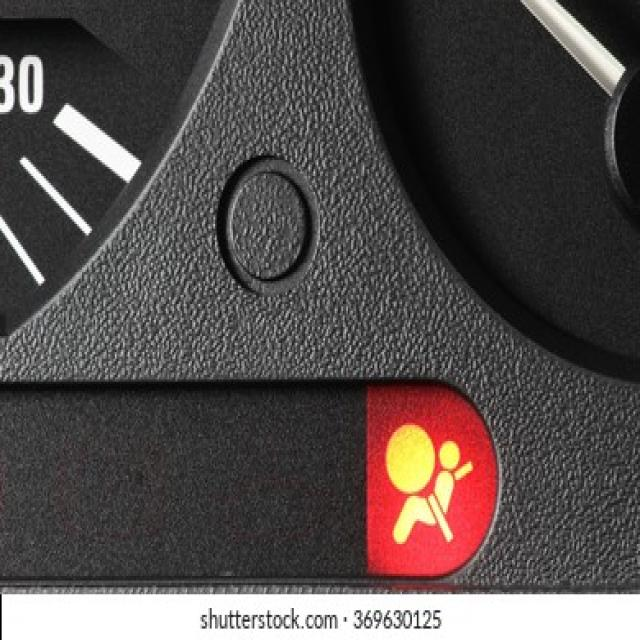SRS-Airbag: (381, 414, 476, 546)
